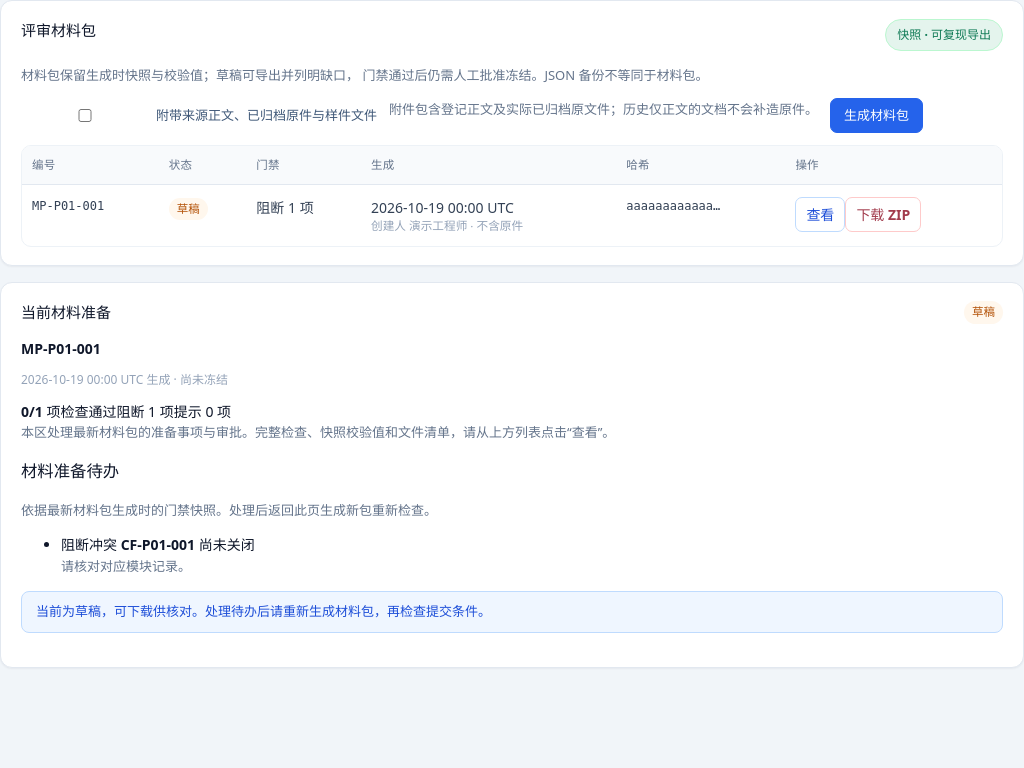
Test case: PackagePanel › shows view failures inside the dialog and retries without leaving stale content
Check: the element "当前材料准备" is shown, box [0, 282, 1023, 668]
Click the button "查看": x=820, y=214 [795, 196, 845, 232]
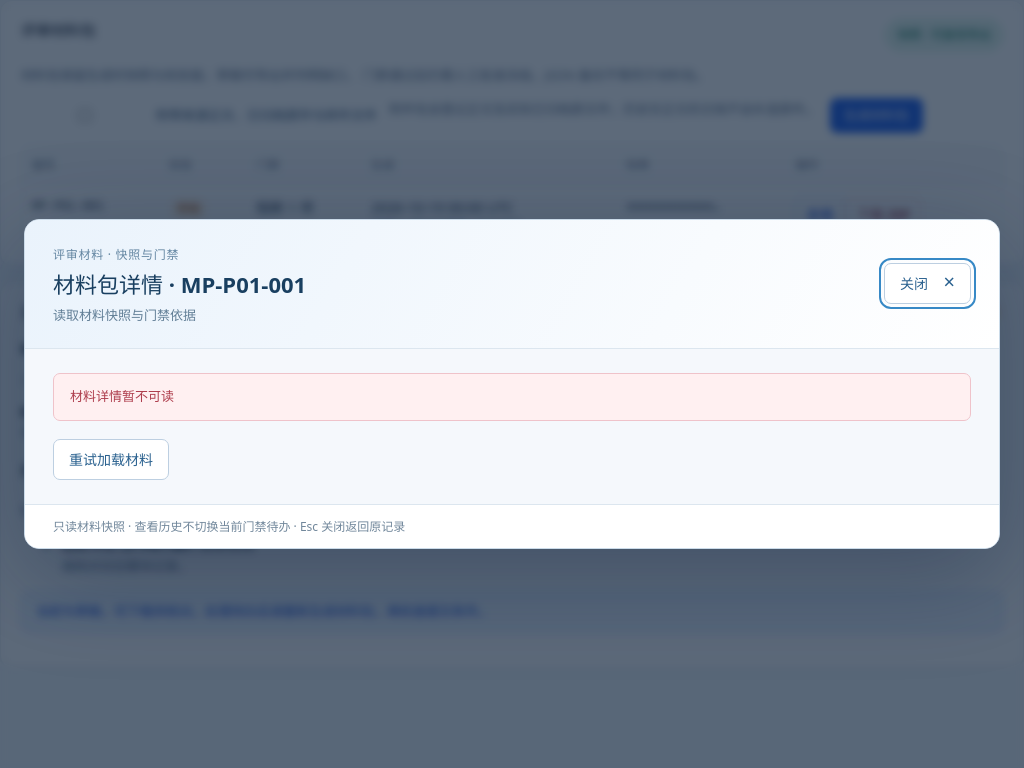
Check: the message reads "材料详情暂不可读", box [70, 387, 174, 405]
Click the button "重试加载材料": x=111, y=459 [53, 438, 169, 480]
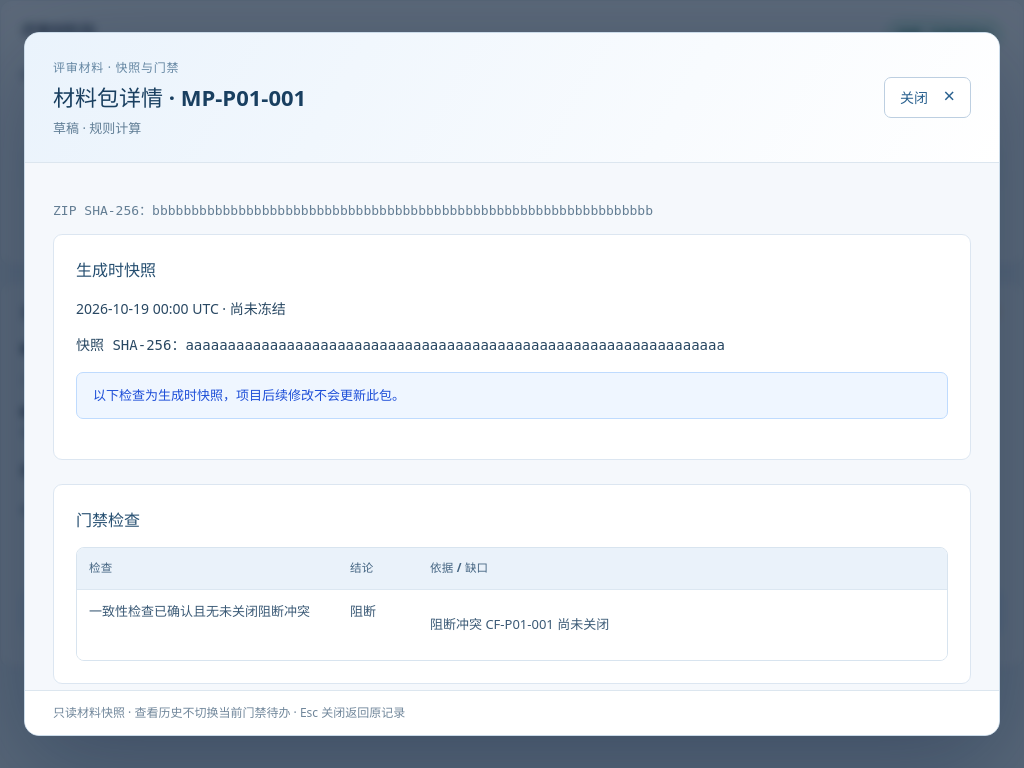
Check: the heading "生成时快照" is shown, box [76, 259, 156, 281]
